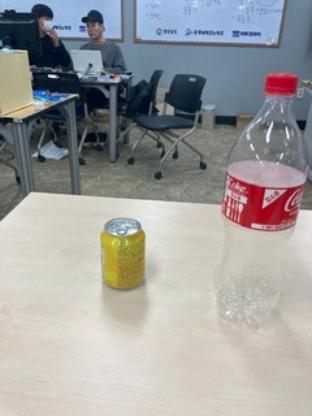Can: (98, 210, 148, 294)
Plastic Bottle: (210, 66, 310, 330)
